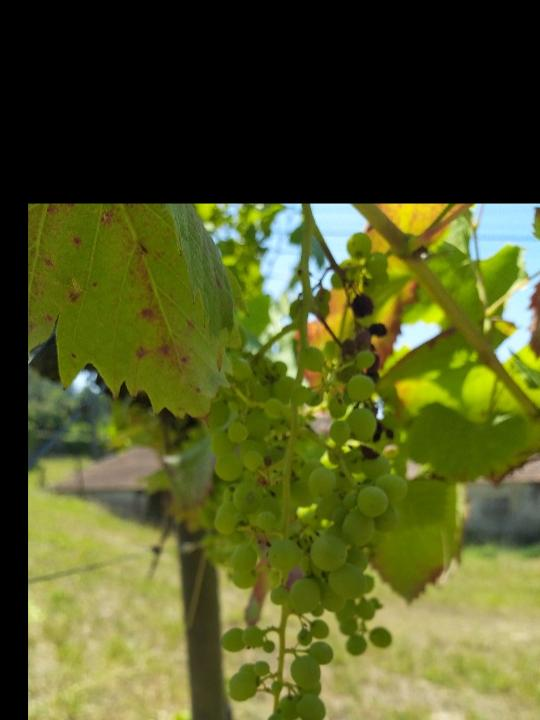grape: (202, 339, 411, 720)
